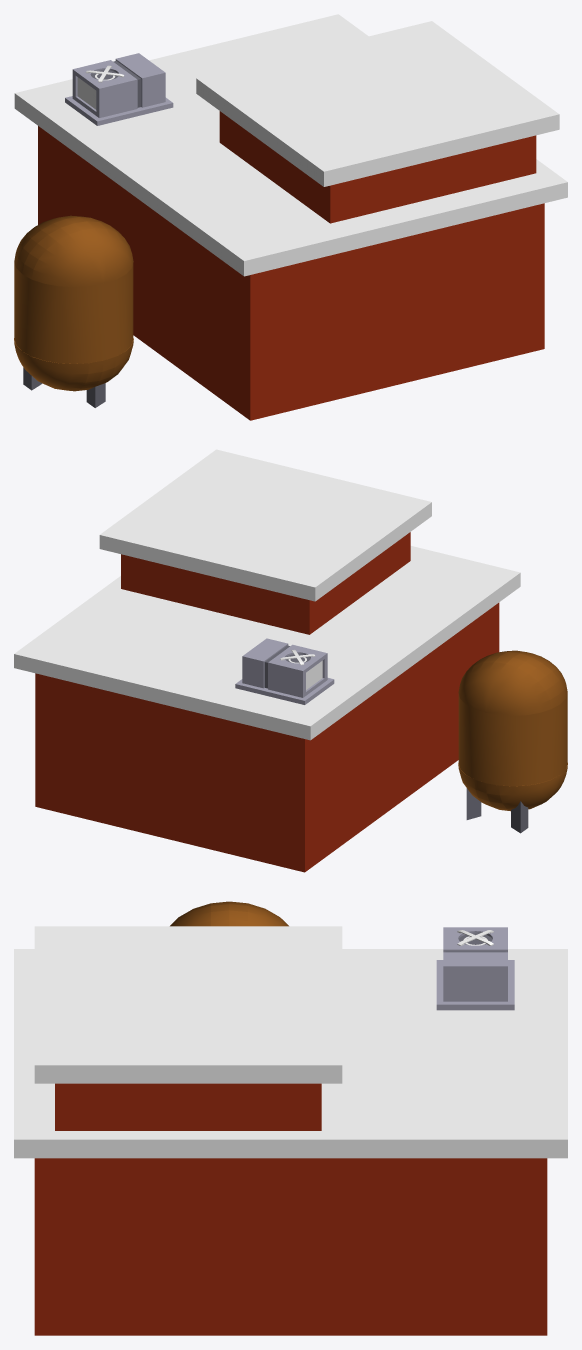
The model's file is Factory.fbx.
3 renders of one model, top to bottom at view 1: azimuth 30°, elevation 25°; view 2: azimuth 150°, elevation 25°; view 3: azimuth 270°, elevation 25°, orthographic. The views are drawn at different scales.
Visible parts, largest first — view 1: Indus_01.model_4; view 2: Indus_01.model_4; view 3: Indus_01.model_4.
Part boxes in pixels (x1,y1,x2,y2): Indus_01.model_4: (14,14,567,420); Indus_01.model_4: (14,449,567,872); Indus_01.model_4: (14,901,567,1335).
Size of the model in its own units: 31 by 15.5 by 27.
